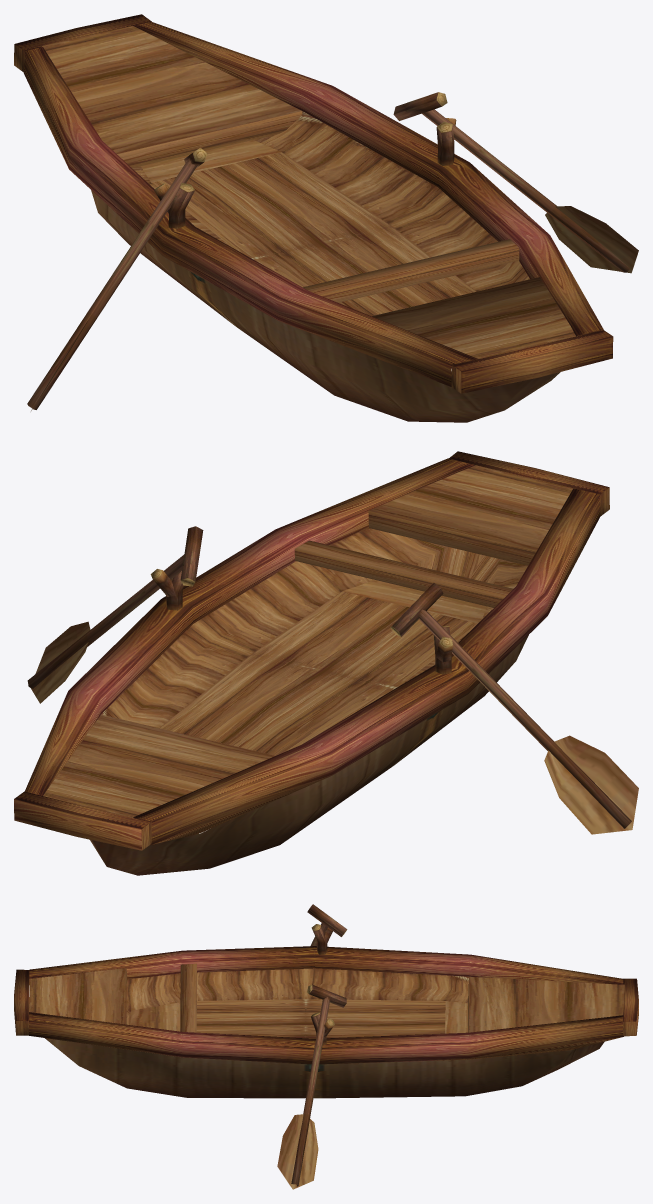
File: environment_common_yuchuan_001_c.FBX
3 views of the same model, one above another, from view 1: azimuth 30°, elevation 25°; view 2: azimuth 150°, elevation 25°; view 3: azimuth 270°, elevation 25° (orthographic). The views are drawn at different scales.
Parts seen in each view (by area): view 1: environment_common_yuchuan_001_c03, environment_common_yuchuan_001_c01, environment_common_yuchuan_001_c02; view 2: environment_common_yuchuan_001_c03, environment_common_yuchuan_001_c01, environment_common_yuchuan_001_c02; view 3: environment_common_yuchuan_001_c03, environment_common_yuchuan_001_c01, environment_common_yuchuan_001_c02.
Part boxes in pixels (box(x1,y1,x2,y2)): environment_common_yuchuan_001_c03: box(41, 26, 582, 358); environment_common_yuchuan_001_c01: box(14, 14, 613, 393); environment_common_yuchuan_001_c02: box(27, 92, 638, 422); environment_common_yuchuan_001_c03: box(43, 465, 573, 817); environment_common_yuchuan_001_c01: box(14, 451, 609, 850); environment_common_yuchuan_001_c02: box(27, 526, 638, 875); environment_common_yuchuan_001_c03: box(29, 963, 624, 1038); environment_common_yuchuan_001_c01: box(14, 946, 638, 1064); environment_common_yuchuan_001_c02: box(30, 904, 604, 1189).
Bounding box in the file's own units: 1036 × 1371 × 357.
